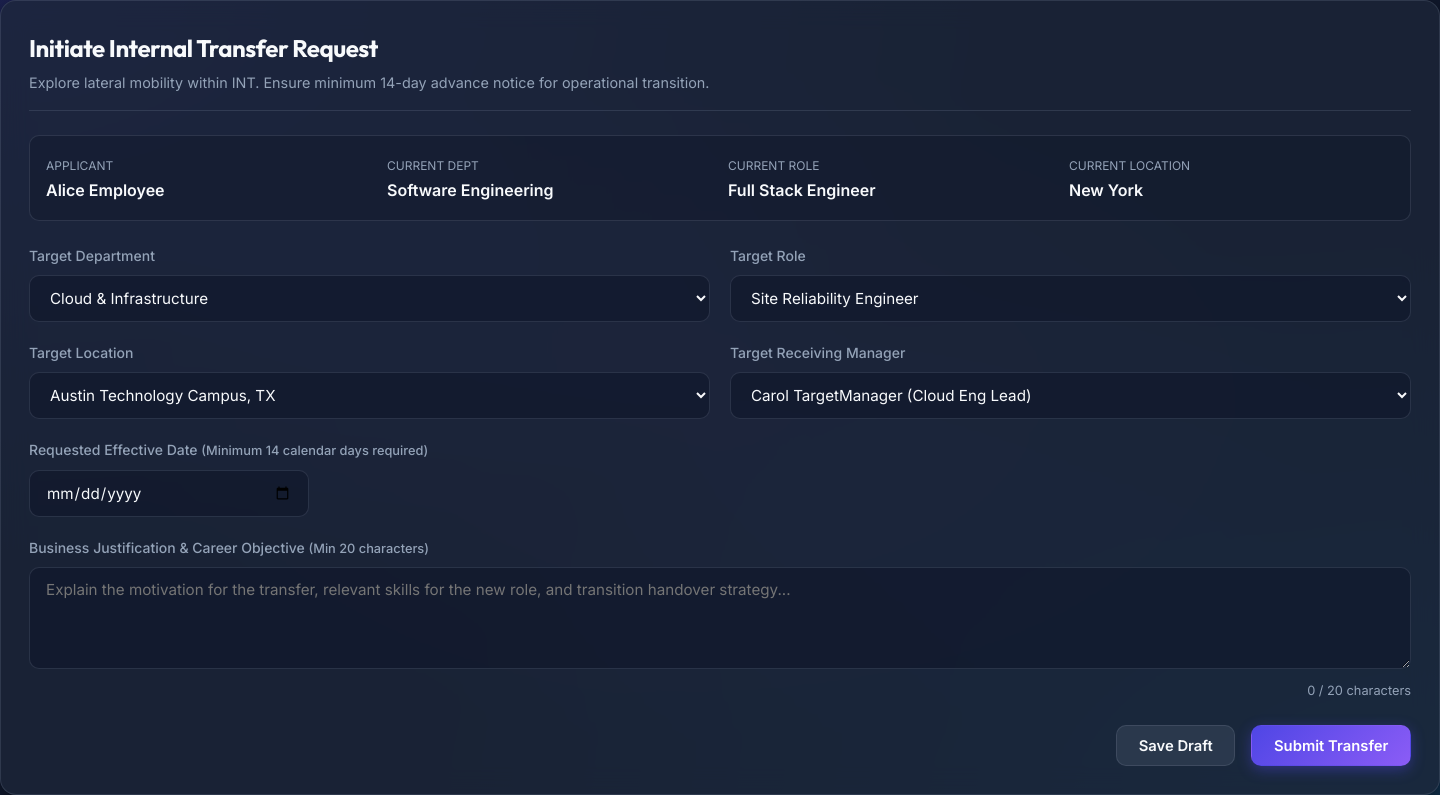
Test: TransferInitiationForm Component (T11 — AC01, AC03) › should submit form successfully when inputs are valid
Type "2026-11-15" into the date field labelled "Requested Effective Date (Minimum 14 calendar days required)" at x=169, y=493, box x1=29 y1=470 x2=309 y2=517
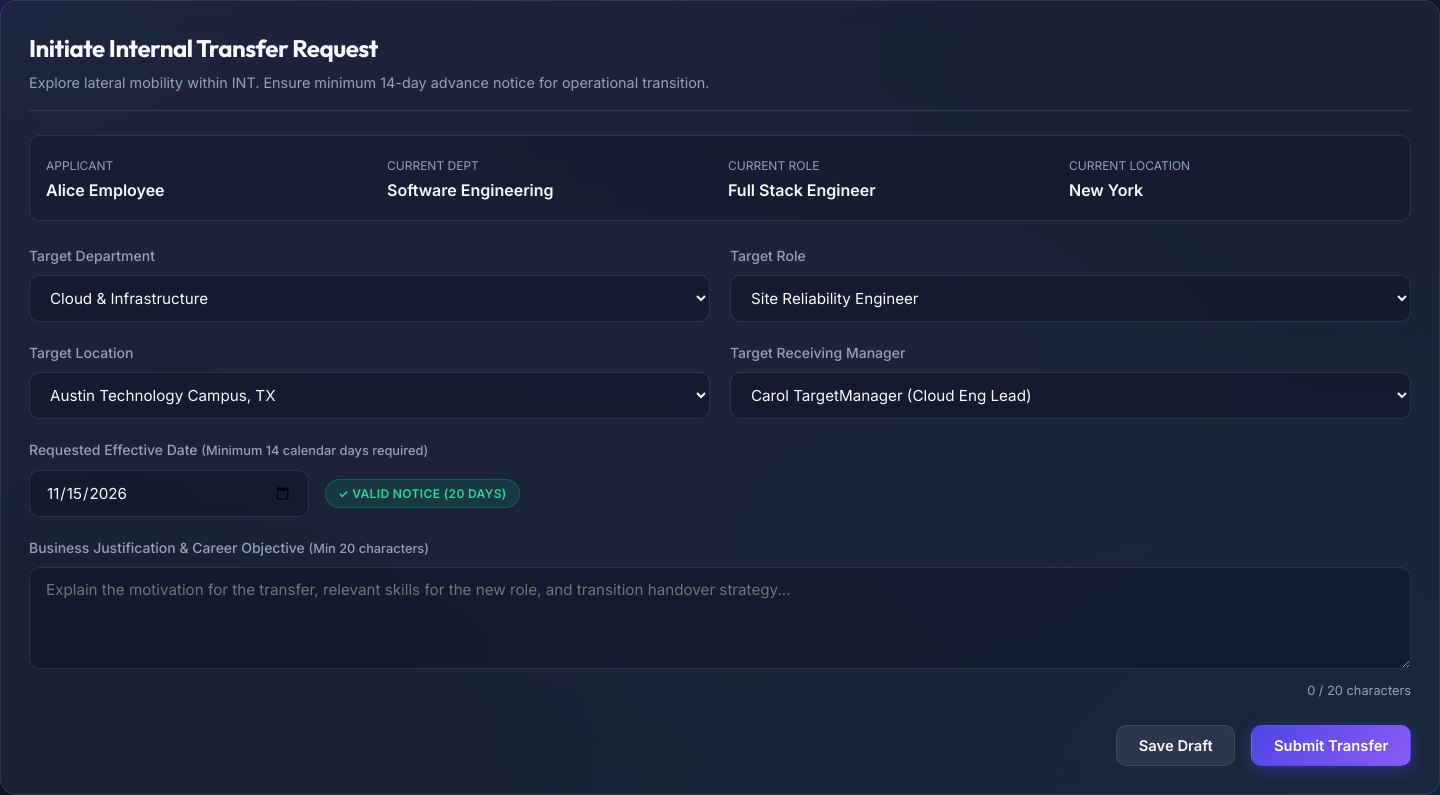
Replace the text in the text box labelled "Business Justification" with "Transferring to cloud infrastructure team to assist with distributed systems deployment." at x=720, y=618, box x1=29 y1=567 x2=1411 y2=669
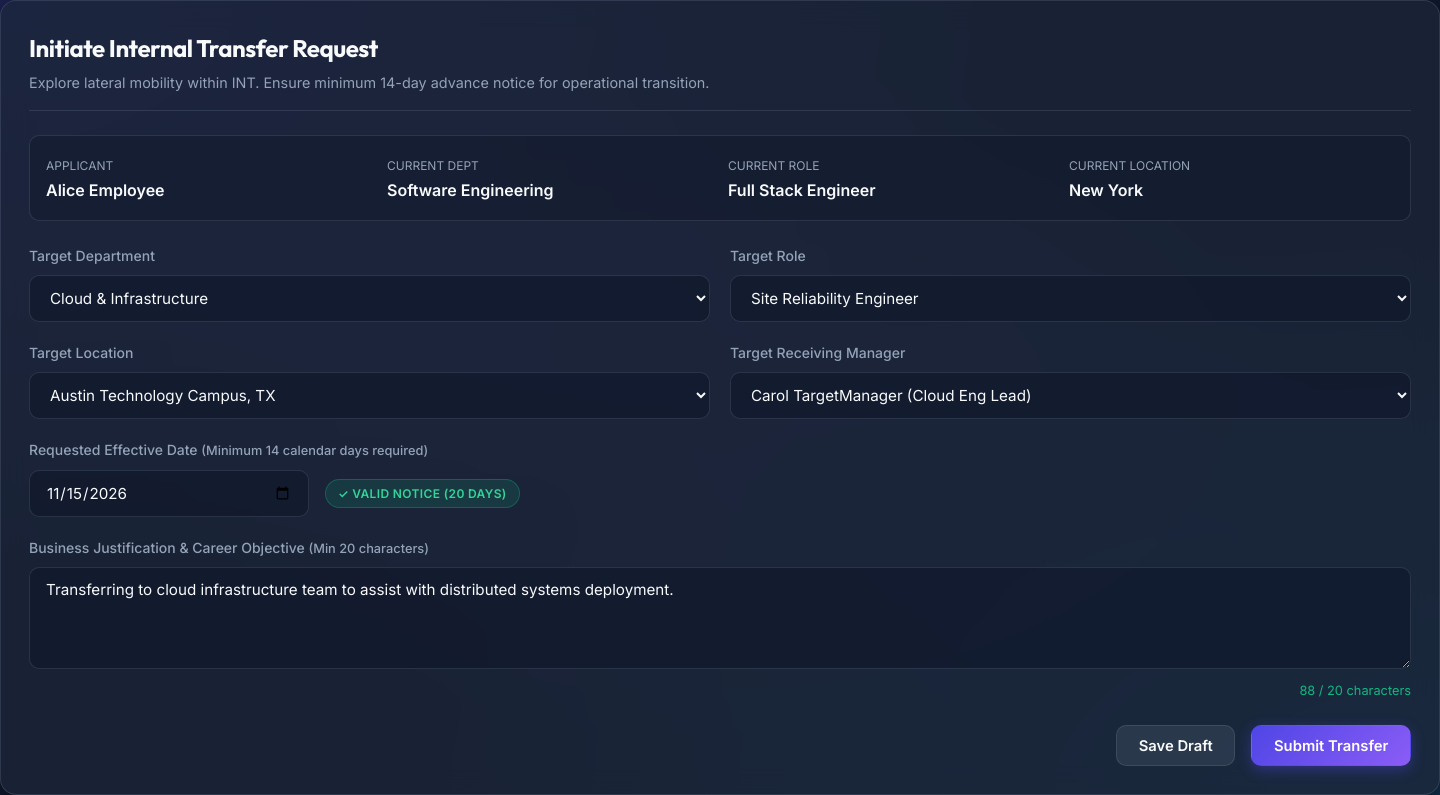
Click the button "Submit Transfer" at x=1331, y=746, box x1=1251 y1=725 x2=1411 y2=766
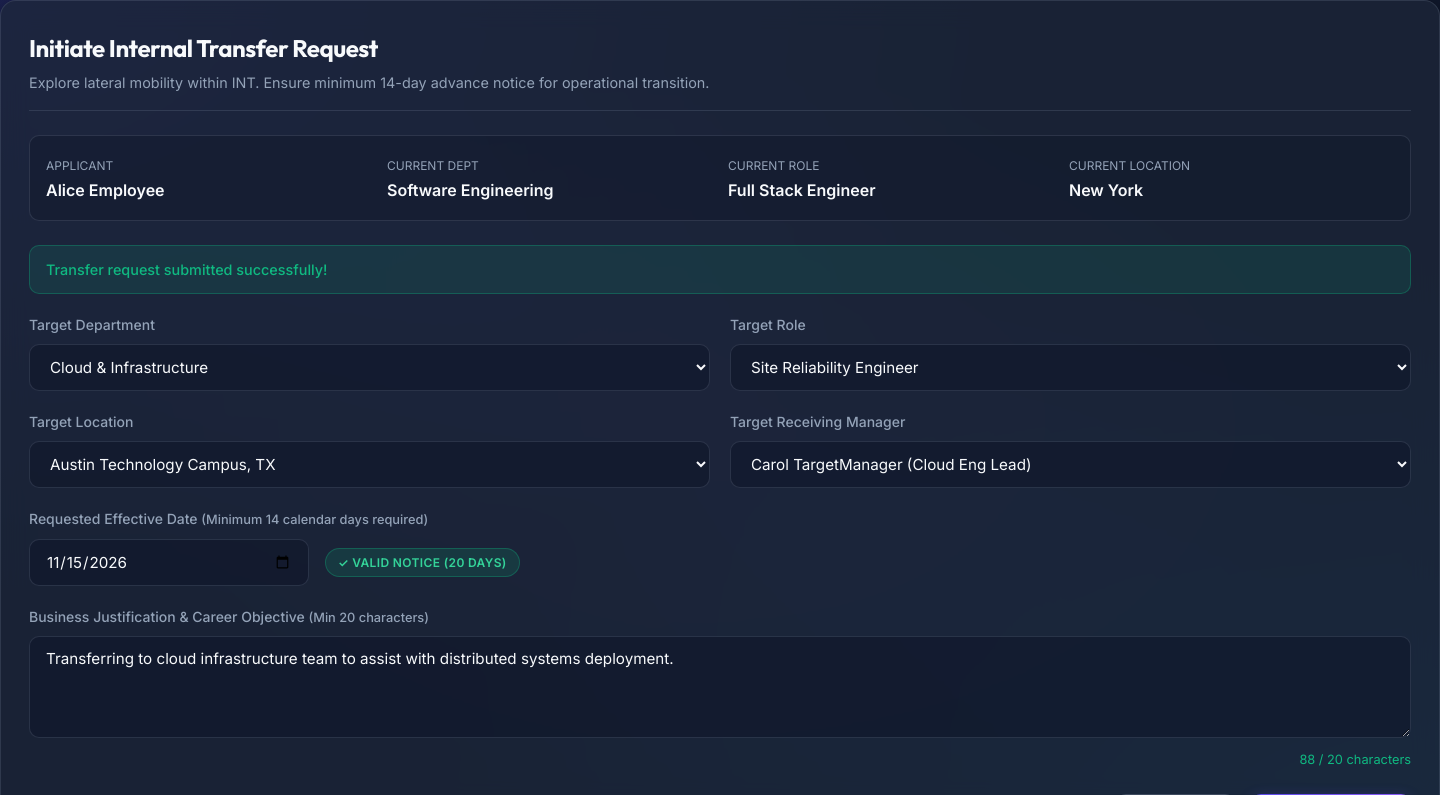
Check: the text "Transfer request submitted successfully!" is shown, box x1=29 y1=245 x2=1411 y2=294
